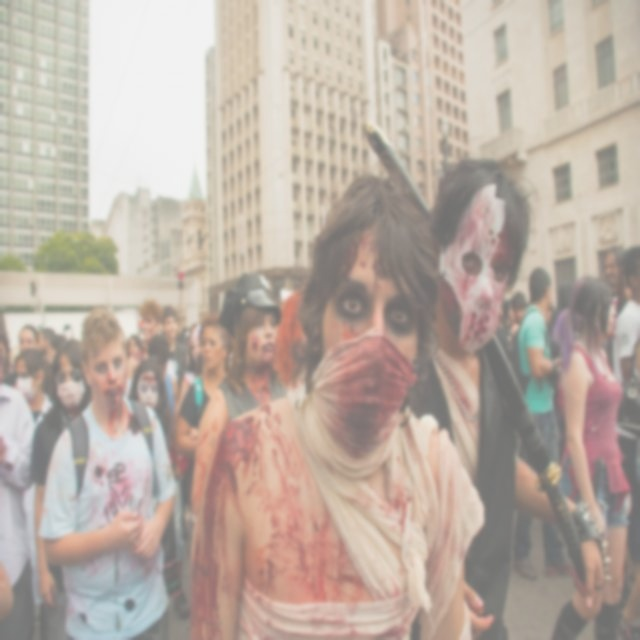pessoa: (188, 171, 488, 639), (338, 153, 527, 639), (35, 304, 183, 639), (530, 268, 634, 640), (188, 270, 292, 524), (512, 264, 576, 582), (27, 337, 91, 639), (144, 332, 192, 622), (528, 460, 609, 612), (0, 332, 40, 639), (610, 245, 640, 639), (12, 346, 55, 610), (175, 319, 234, 459), (177, 322, 234, 456), (263, 289, 320, 397), (127, 356, 179, 474), (547, 280, 576, 468), (602, 245, 632, 342), (3, 323, 42, 386), (160, 302, 188, 383), (35, 327, 60, 400), (46, 324, 74, 366), (1, 557, 16, 626), (140, 298, 161, 340), (177, 313, 196, 351), (628, 338, 639, 384), (126, 332, 142, 360), (544, 303, 555, 328)
